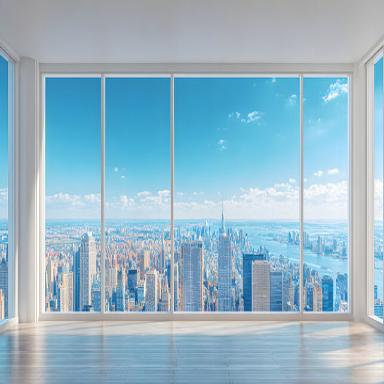glass_panel: (176, 79, 299, 312), (106, 78, 171, 310), (44, 77, 100, 312), (303, 77, 350, 310), (232, 224, 299, 310), (1, 48, 13, 322), (374, 49, 384, 320)
